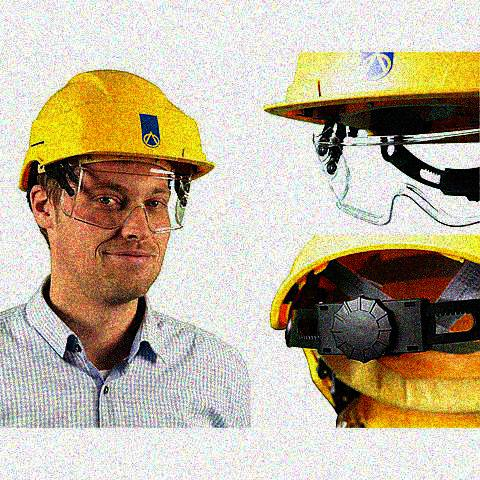helmet: (16, 65, 218, 301)
